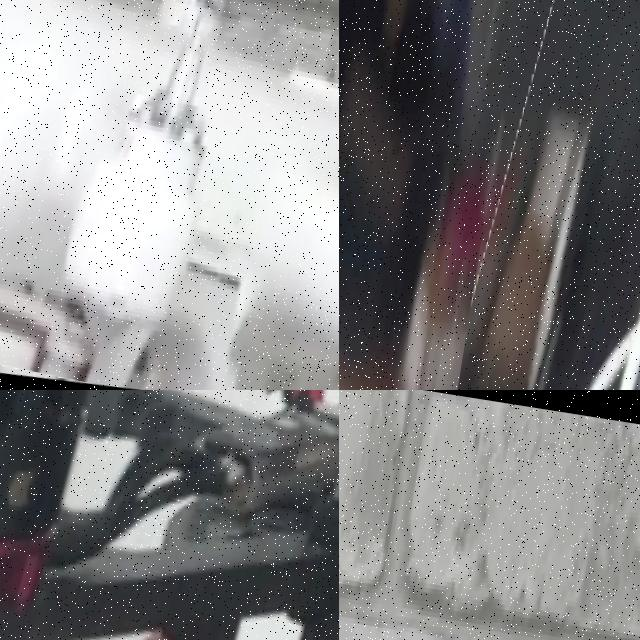drone: (0, 0, 339, 390), (0, 390, 339, 640), (430, 0, 640, 390)
